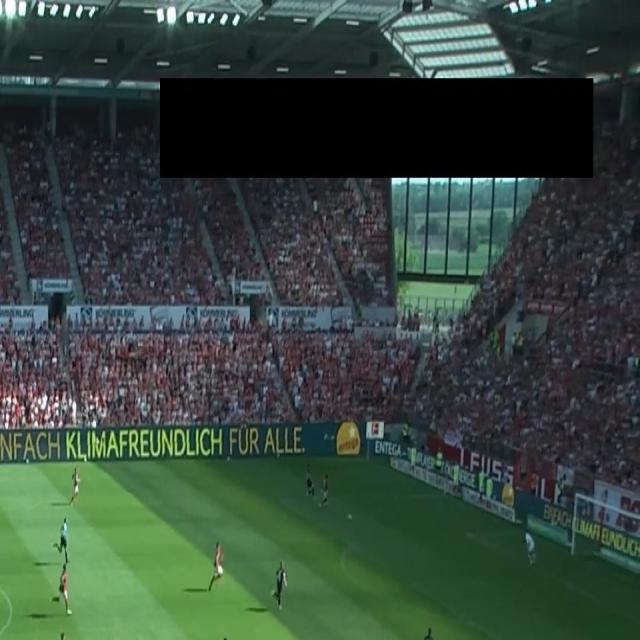ball: (347, 512, 352, 522)
